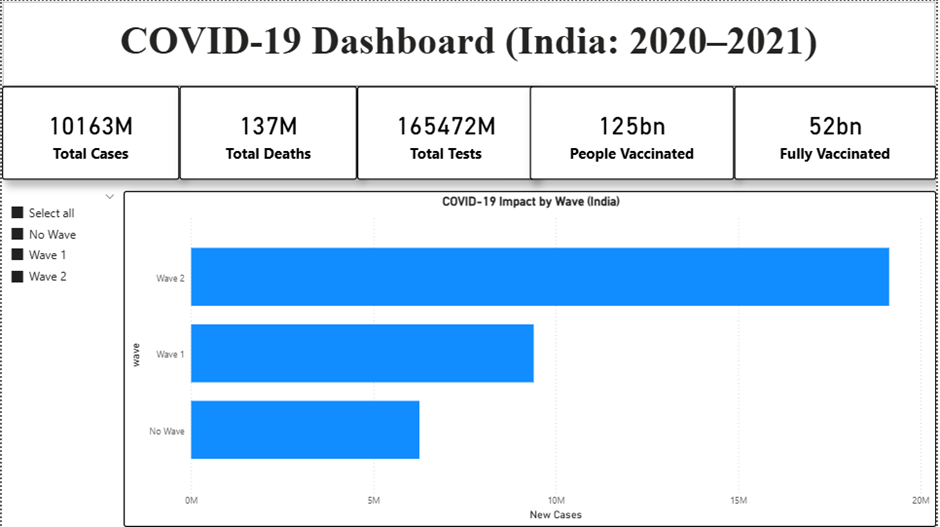

The page's visual inventory and layout, read from the dashboard file:
{"tool":"powerbi","page":{"name":"Page 1","canvas":[1280,720],"ordinal":0},"visuals":[{"type":"clusteredBarChart","title":"COVID-19 Impact by Wave (India)","fields":{"Category":["Wave Data.wave"],"Y":["Sum(Wave Data.new_cases)"]},"box":[166.7,260,1113.3,460],"z":0},{"type":"slicer","fields":{"Values":["Wave Data.wave"]},"box":[0,260,166.7,460],"z":1000},{"type":"textbox","box":[0,0,1280,116.7],"z":2000},{"type":"card","fields":{"Values":["Daily Data.Total Cases"]},"box":[0,116.7,243.3,128.3],"z":2001},{"type":"card","fields":{"Values":["Daily Data.Total Deaths"]},"box":[243.3,116.7,243.3,128.3],"z":2002},{"type":"card","fields":{"Values":["Daily Data.Total Tests"]},"box":[486.7,116.7,243.3,128.3],"z":2003},{"type":"card","fields":{"Values":["Daily Data.People Vaccinated"]},"box":[723.3,116.7,280,128.3],"z":2004},{"type":"card","fields":{"Values":["Daily Data.Fully Vaccinated"]},"box":[1003.3,116.7,276.7,128.3],"z":2005}]}

Visuals, with their boxes in screenshot pixels (x1, y1, x2, y2), scaled from the page's 1280x720 canvas onto the 940x527 screenshot:
"COVID-19 Impact by Wave (India)" clusteredBarChart: left=122, top=190, right=939, bottom=526
slicer - Wave Data.wave: left=0, top=190, right=122, bottom=526
textbox: left=0, top=0, right=939, bottom=85
card - Daily Data.Total Cases: left=0, top=85, right=179, bottom=179
card - Daily Data.Total Deaths: left=179, top=85, right=357, bottom=179
card - Daily Data.Total Tests: left=357, top=85, right=536, bottom=179
card - Daily Data.People Vaccinated: left=531, top=85, right=737, bottom=179
card - Daily Data.Fully Vaccinated: left=737, top=85, right=939, bottom=179
